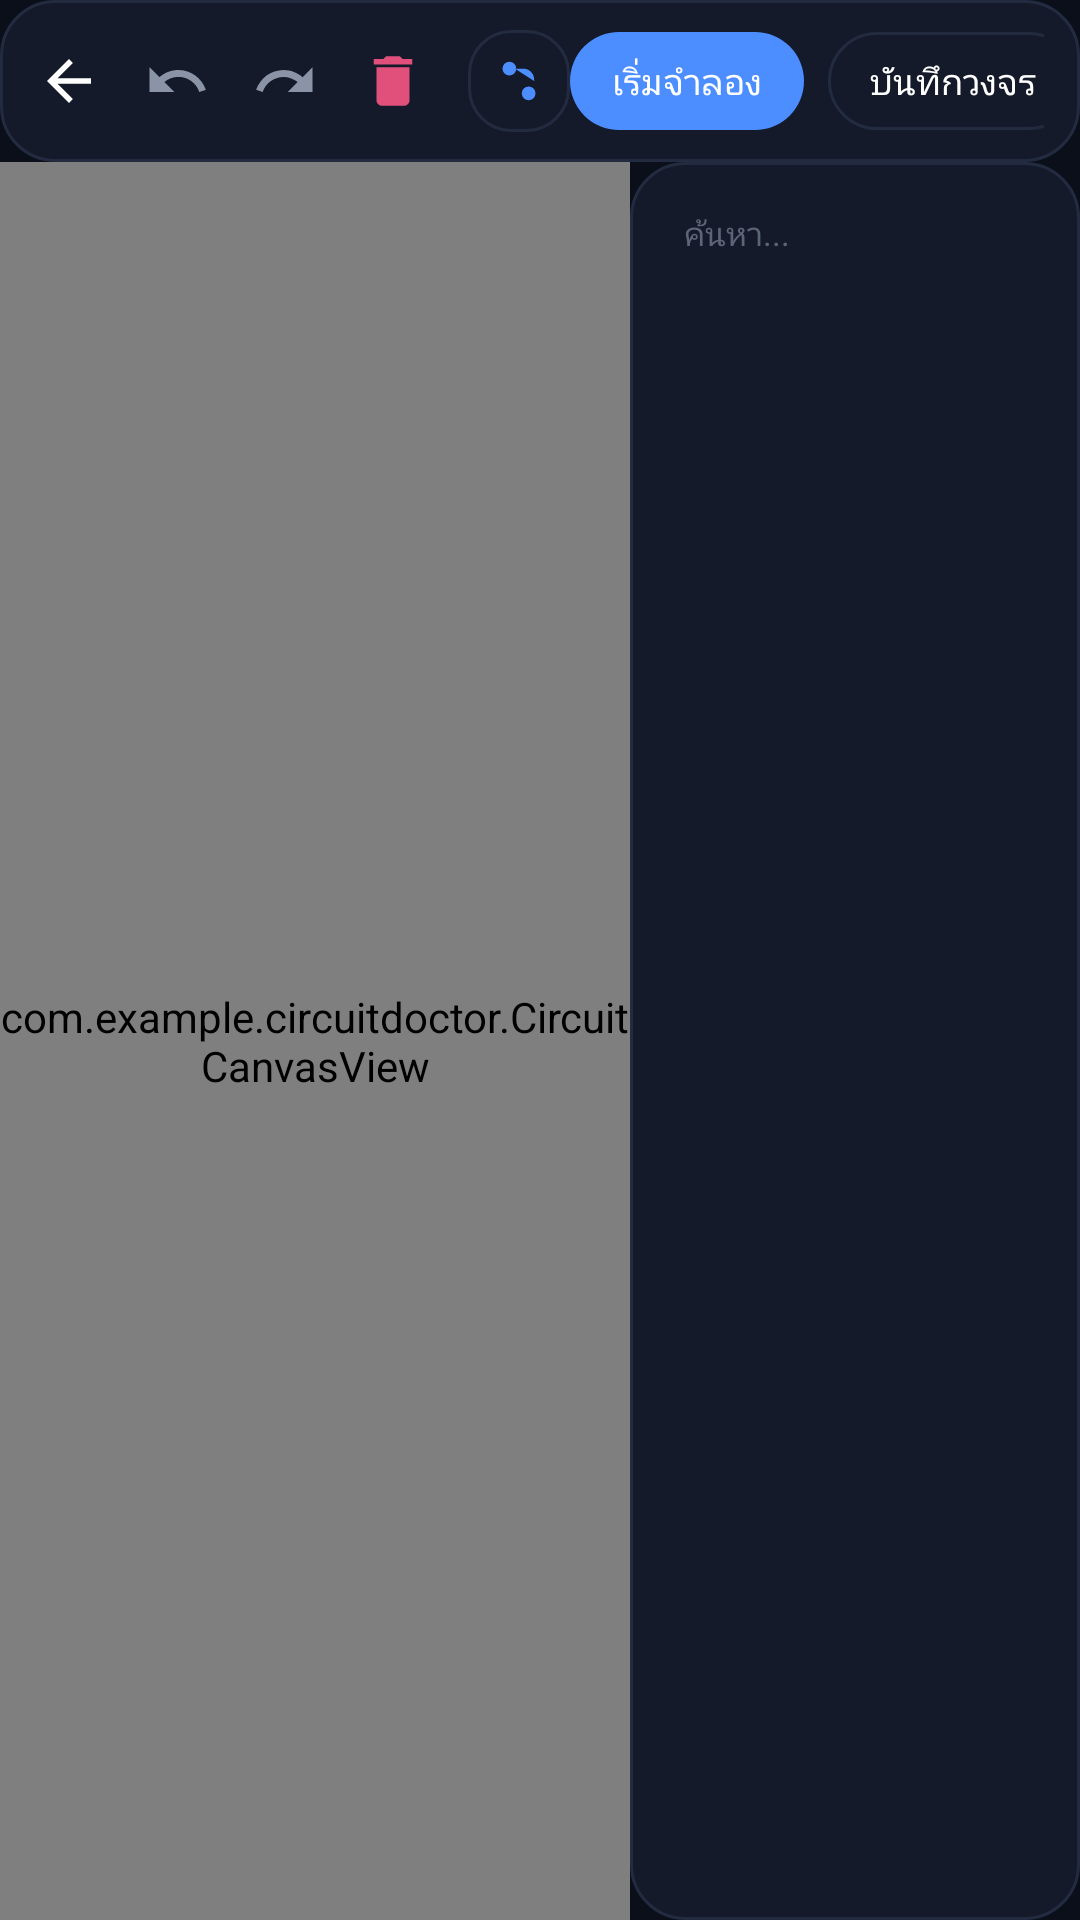

Named icons in this screenshot (1080*1920) and their centers, point (x, y):
back: point (69, 81)
delete: point (393, 81)
redo: point (284, 79)
undo: point (177, 79)
wire: point (519, 81)
